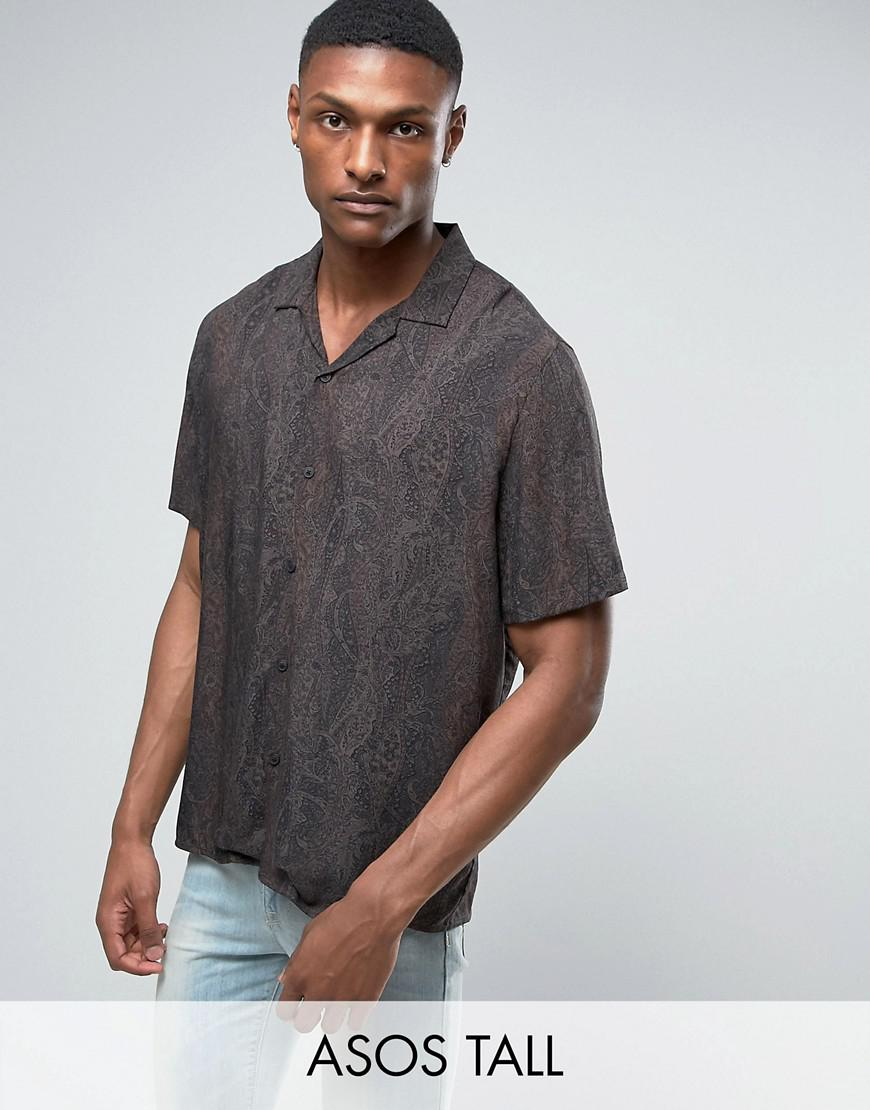teeshirt: (110, 234, 630, 935)
